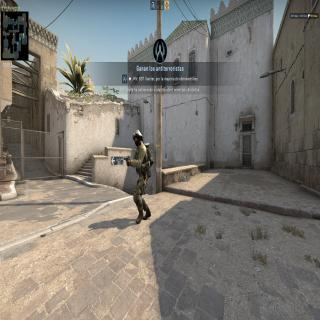CT-Head: (132, 127, 144, 147)
